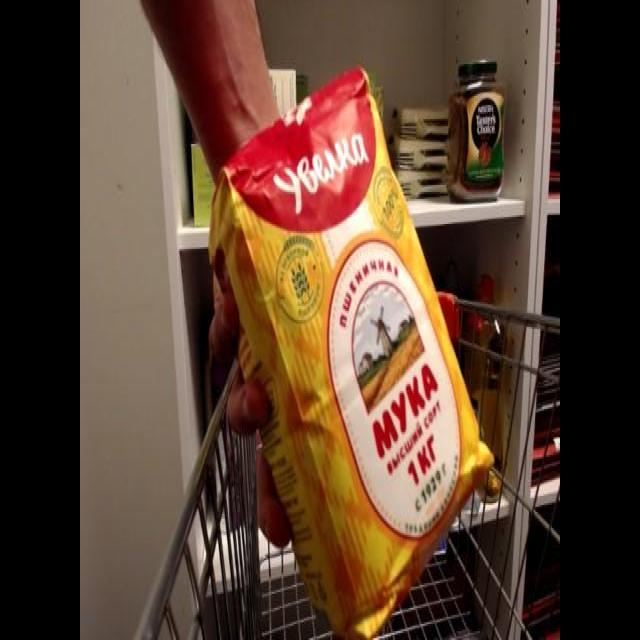Flour: (208, 45, 500, 627)
